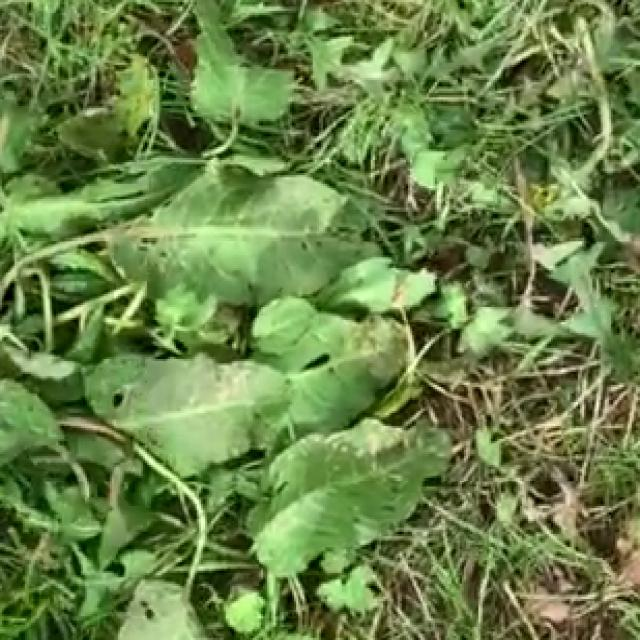organic waste: (2, 24, 479, 640)
